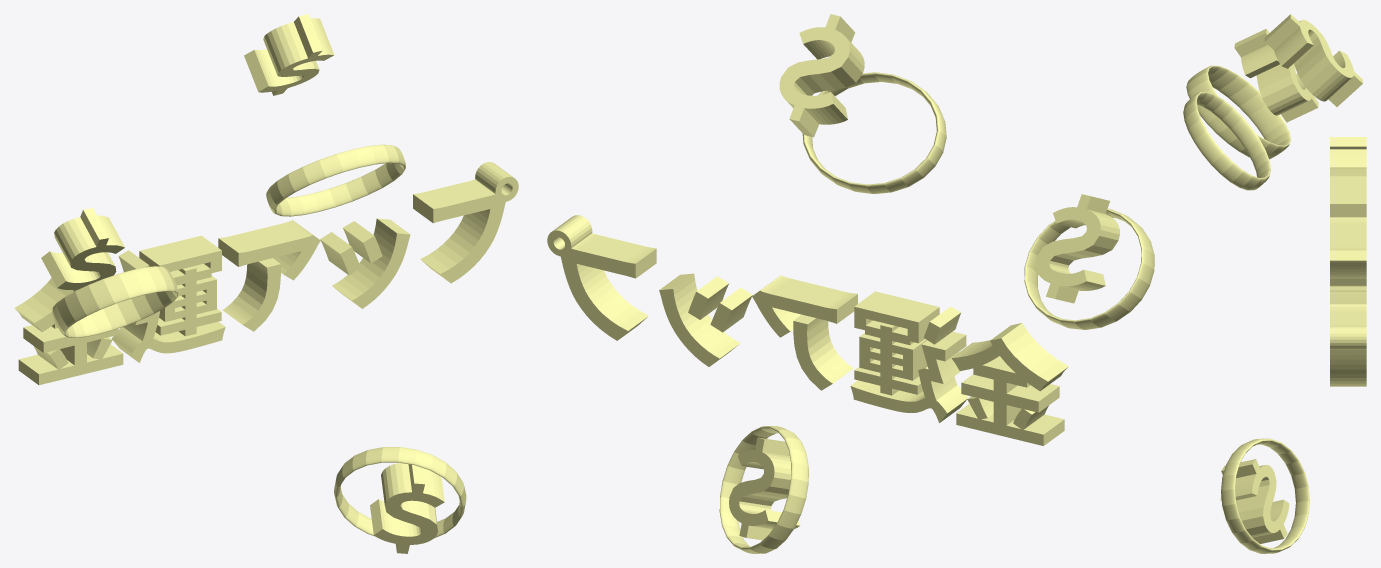
File: tinker.obj
The picture shows the model from 3 angles, left to right: view 1: azimuth 30°, elevation 25°; view 2: azimuth 150°, elevation 25°; view 3: azimuth 270°, elevation 25°; orthographic projection. The views are drawn at different scales.
Parts seen in each view (by area): view 1: obj_0; view 2: obj_0; view 3: obj_0.
Part boxes in pixels (left/top/right/bottom): obj_0: left=14, top=14, right=518, bottom=553; obj_0: left=547, top=14, right=1154, bottom=553; obj_0: left=1183, top=14, right=1366, bottom=553.
Size of the model in its own units: 144 by 148 by 49.83.
